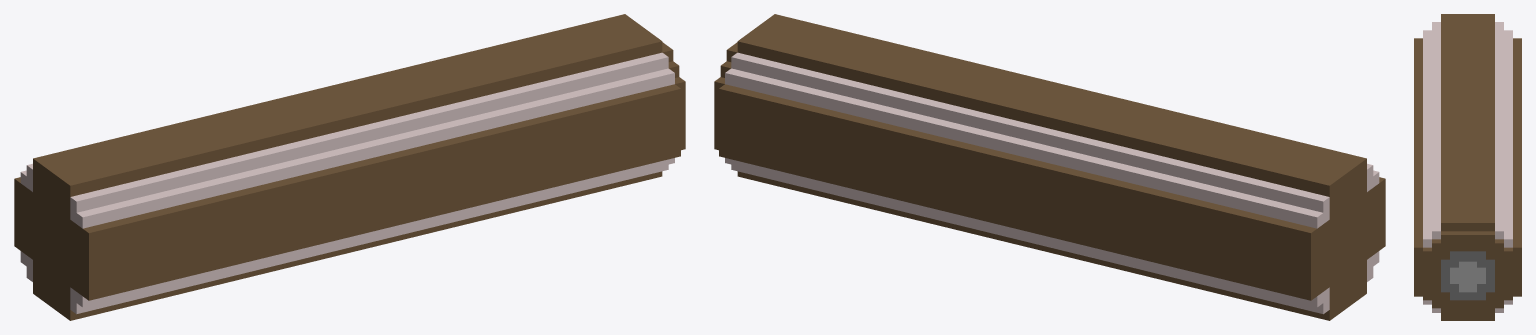
File: WeaponFrame.fbx
3 renders of one model, left to right at view 1: azimuth 30°, elevation 25°; view 2: azimuth 150°, elevation 25°; view 3: azimuth 270°, elevation 25°, orthographic. The views are drawn at different scales.
Parts seen in each view (by area): view 1: WeaponFrame; view 2: WeaponFrame; view 3: WeaponFrame.
Boxes of the visible parts, bbox=[...] form: WeaponFrame: bbox=[14, 14, 685, 320]; WeaponFrame: bbox=[714, 14, 1385, 320]; WeaponFrame: bbox=[1414, 14, 1521, 320].
Size of the model in its own units: 5600 by 1200 by 1200.
